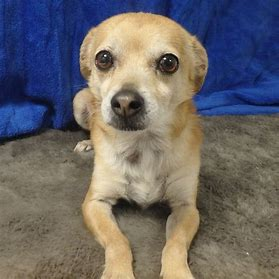dog: (57, 11, 220, 276)
